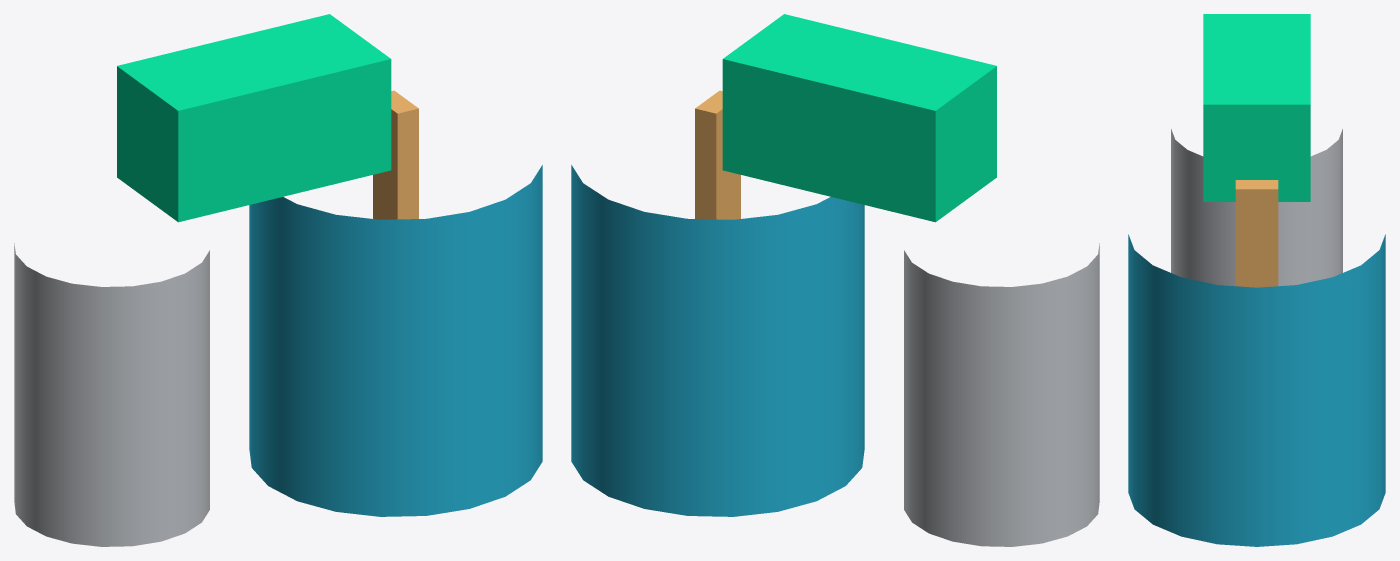
Rendered from daniel_cell_electrochemical_emf.glb.
3 renders of one model, left to right at view 1: azimuth 30°, elevation 25°; view 2: azimuth 150°, elevation 25°; view 3: azimuth 270°, elevation 25°, orthographic. The views are drawn at different scales.
Parts seen in each view (by area): view 1: OuterGlassVesselCopperSulfate, PorousPotZincElectrodeHalfCell, DigitalMillivoltmeterEMFReadout, ZincAndCopperElectrodePlates; view 2: OuterGlassVesselCopperSulfate, PorousPotZincElectrodeHalfCell, DigitalMillivoltmeterEMFReadout, ZincAndCopperElectrodePlates; view 3: OuterGlassVesselCopperSulfate, DigitalMillivoltmeterEMFReadout, PorousPotZincElectrodeHalfCell, ZincAndCopperElectrodePlates.
Part boxes in pixels (x1,y1,x2,y2): OuterGlassVesselCopperSulfate: (249,165,542,516); PorousPotZincElectrodeHalfCell: (14,243,209,546); DigitalMillivoltmeterEMFReadout: (117,14,391,222); ZincAndCopperElectrodePlates: (373,90,418,219); OuterGlassVesselCopperSulfate: (571,165,864,516); PorousPotZincElectrodeHalfCell: (904,243,1099,546); DigitalMillivoltmeterEMFReadout: (722,14,996,222); ZincAndCopperElectrodePlates: (695,90,740,219); OuterGlassVesselCopperSulfate: (1128,234,1385,546); DigitalMillivoltmeterEMFReadout: (1203,14,1310,201); PorousPotZincElectrodeHalfCell: (1171,129,1342,286); ZincAndCopperElectrodePlates: (1235,180,1278,287).
Size of the model in its own units: 0.7 by 0.575 by 0.36.
